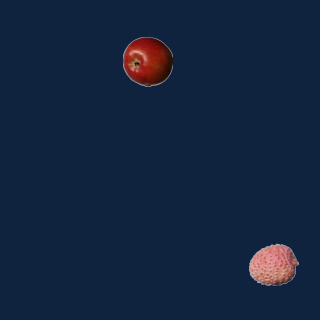Apple Braeburn: (122, 36, 172, 86)
Lychee: (248, 239, 298, 289)
